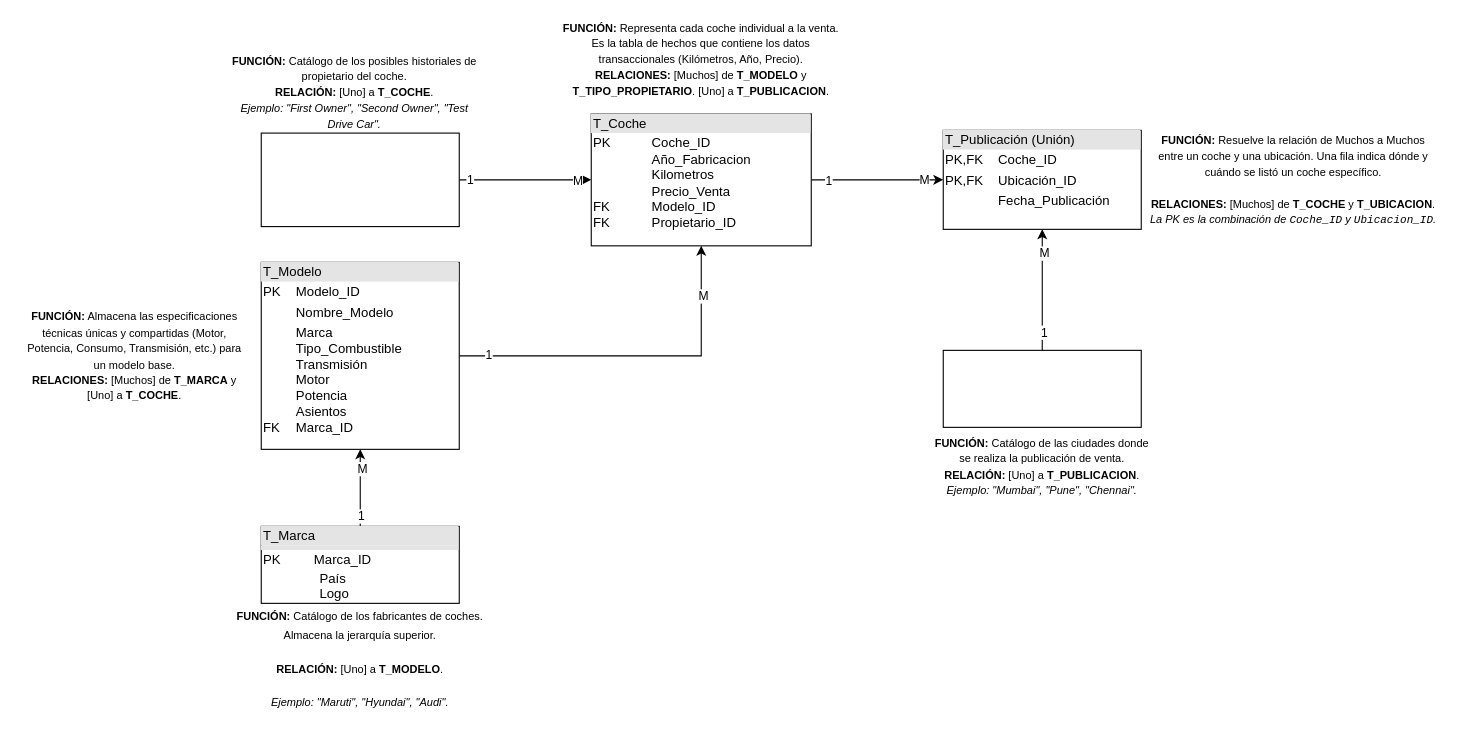
This 1458x745 diagram has some shape labels left out. The centre of each missing label's shape, as x and y in pixels:
"T_Propietario PK Propietario_ID Nombre Telefono Correo" belongs at pixel 359 179.
"T_Ubicación PK Ubicación_ID Codigo postal" belongs at pixel 1041 388.
